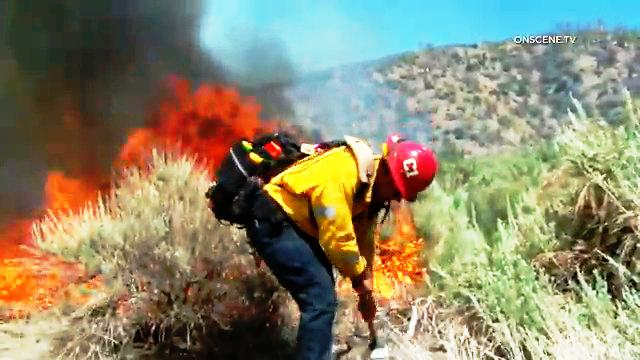fire: (0, 174, 74, 323), (147, 75, 255, 160), (378, 217, 430, 291)
smoke: (10, 0, 208, 118)
